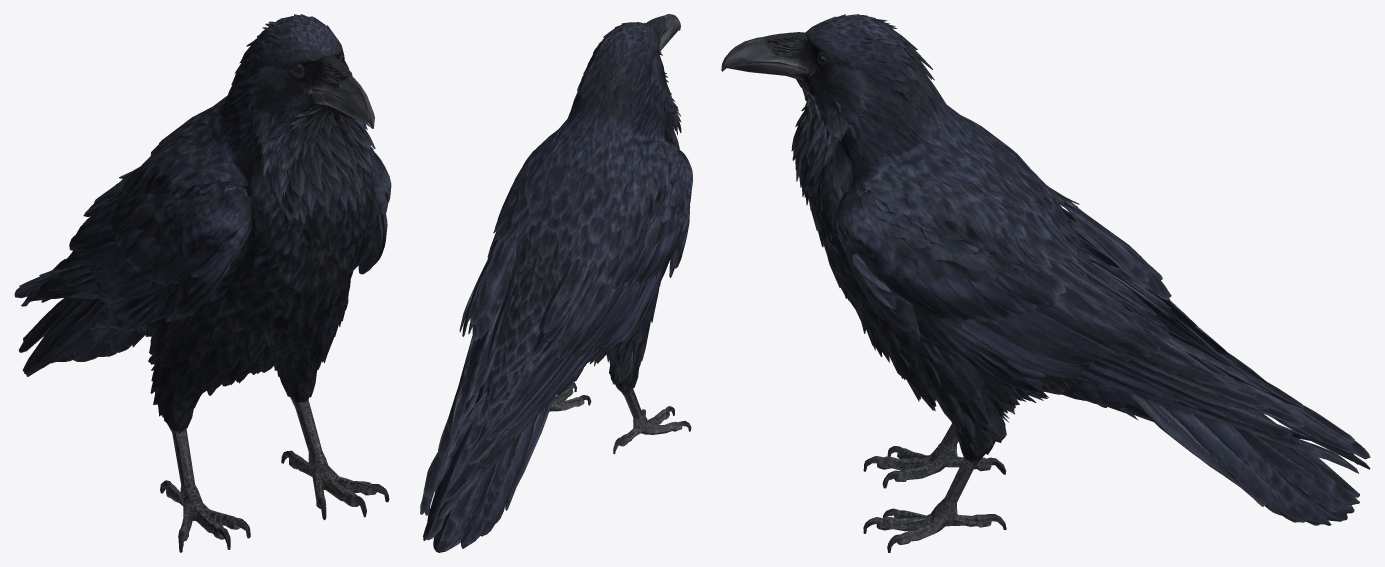
Rendered from raven.glb.
The picture shows the model from 3 angles, left to right: view 1: azimuth 30°, elevation 25°; view 2: azimuth 150°, elevation 25°; view 3: azimuth 270°, elevation 25°; orthographic projection. The views are drawn at different scales.
Parts seen in each view (by area): view 1: Mesh_0; view 2: Mesh_0; view 3: Mesh_0.
Part boxes in pixels (bbox=[...]): Mesh_0: bbox=[14, 14, 391, 552]; Mesh_0: bbox=[420, 14, 692, 552]; Mesh_0: bbox=[721, 14, 1370, 552].
Size of the model in its own units: 0.6546 by 1.6 by 1.87.
1 material, 1 textured.
